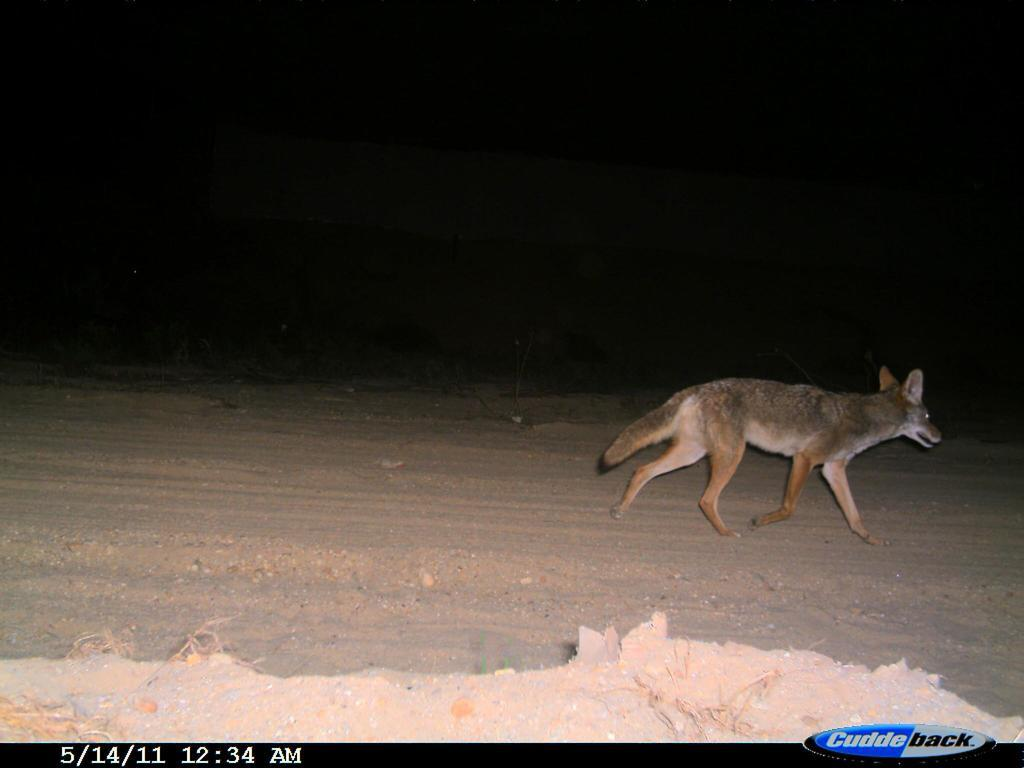coyote: (594, 359, 954, 547)
